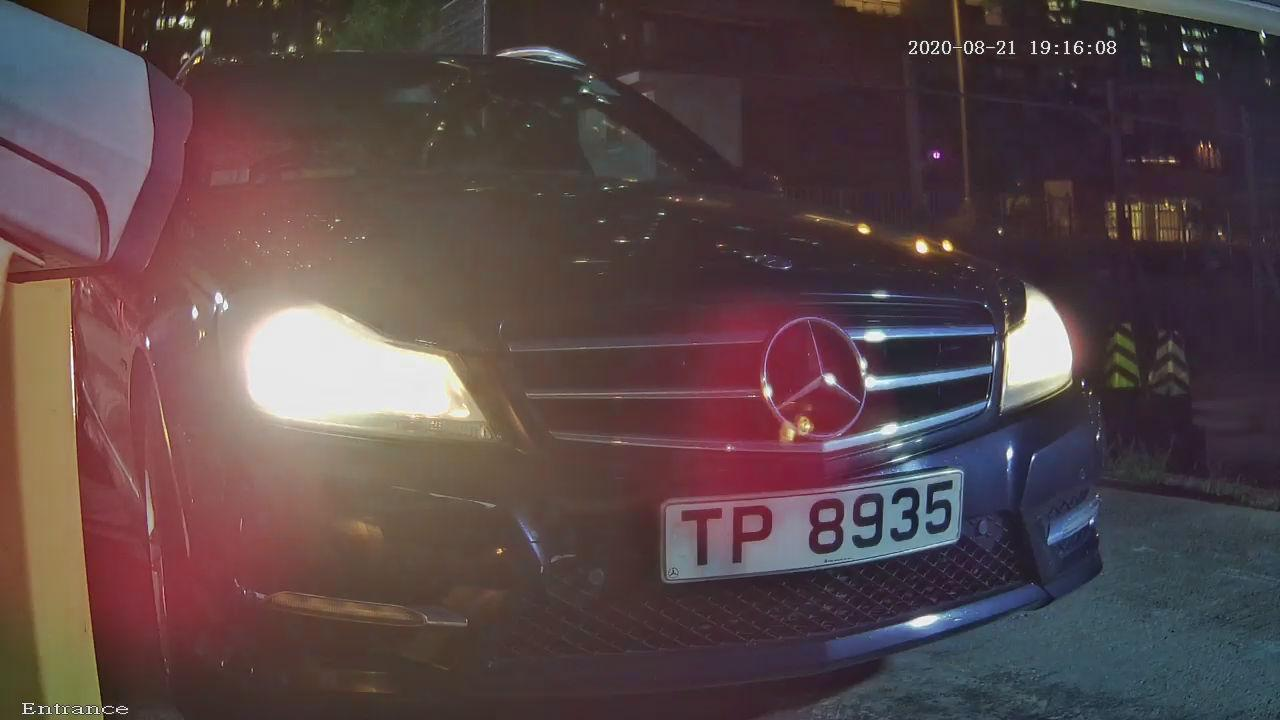License Plate: (624, 439, 985, 629)
